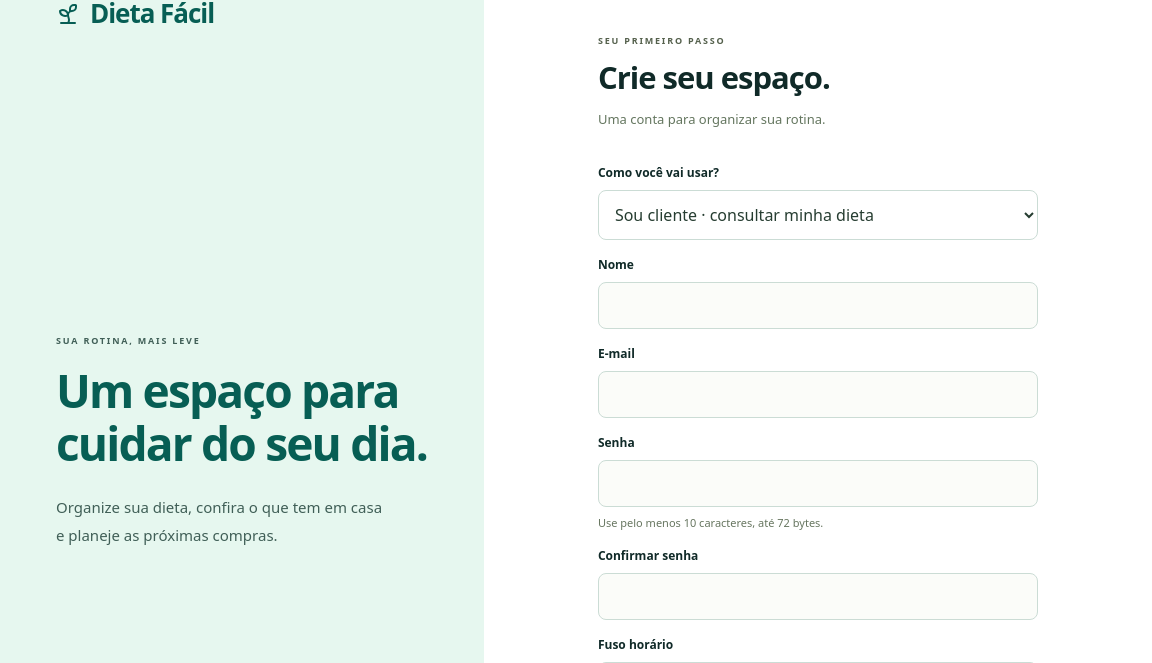
Test case: Acesso pessoal › bloqueia senhas diferentes antes do cadastro e encaminha ao login após criar conta
Type "Pessoa Teste" into the field labelled "Nome" at (818, 305), box [598,282,1038,329]
Type "test@example.invalid" into the field labelled "E-mail" at (818, 394), box [598,371,1038,418]
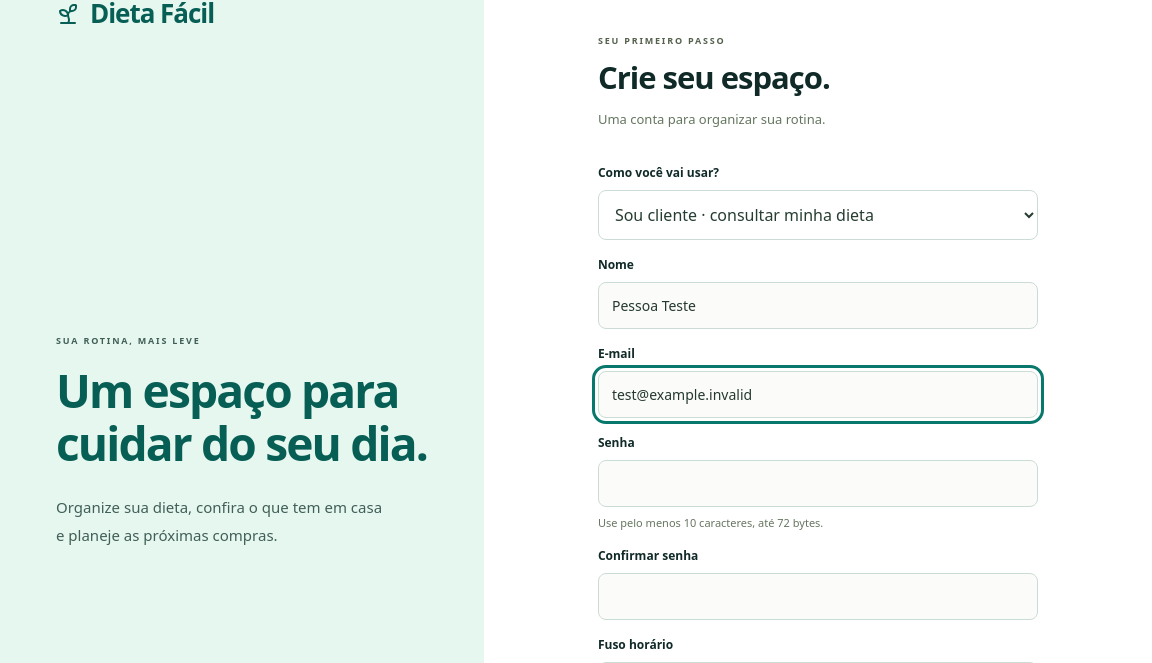
Type "senha-de-teste" into the password field labelled "Senha" at (818, 483), box [598,460,1038,507]
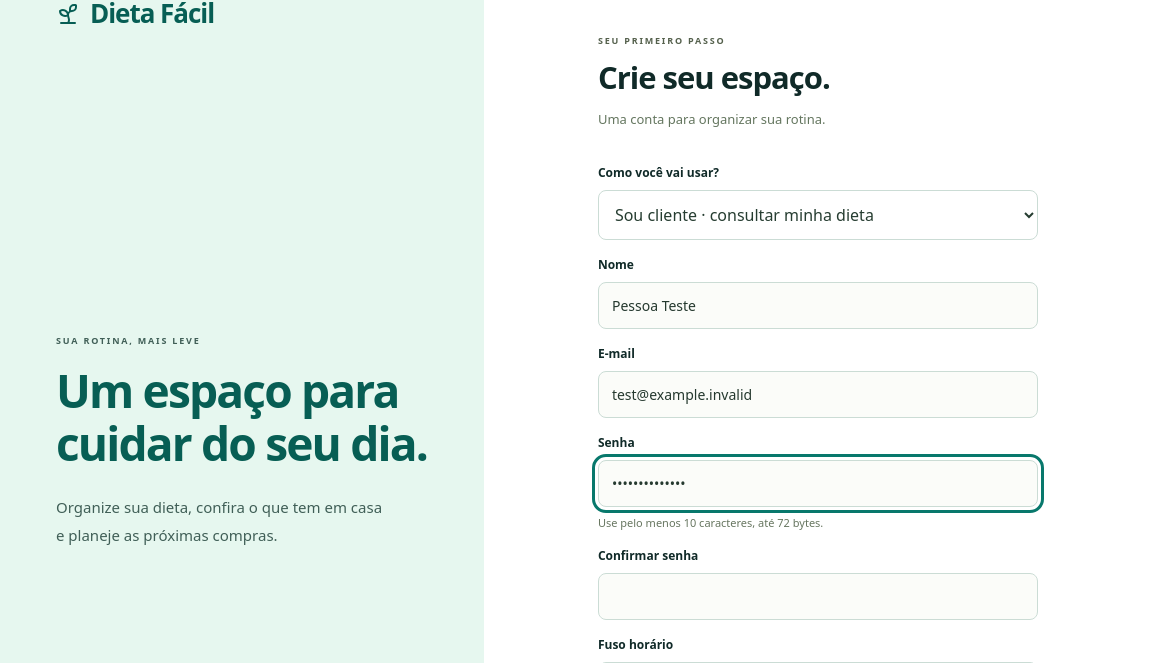
Type "outra-senha" into the password field labelled "Confirmar senha" at (818, 597), box [598,573,1038,620]
(page scrolled)
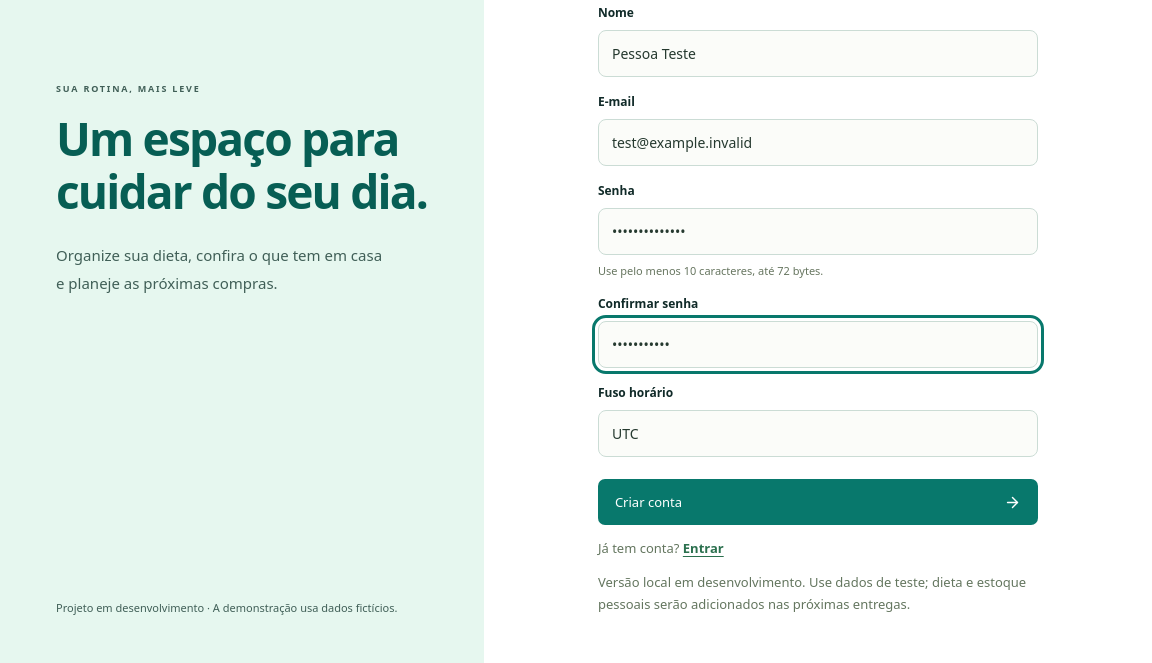
Click the button "Criar conta" at (648, 502), box [598,479,1038,525]
(page scrolled)
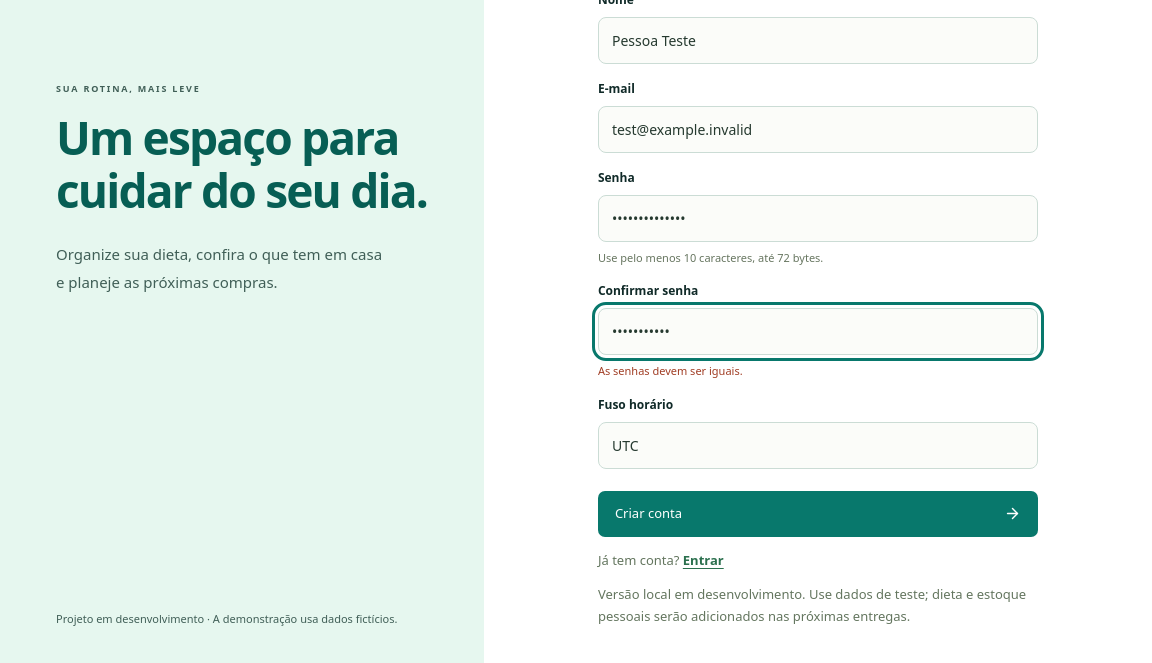
expect the text "As senhas devem ser iguais." is shown: met, box [598,363,743,378]
Type "senha-de-teste" into the password field labelled "Confirmar senha" at (818, 332), box [598,308,1038,355]
(page scrolled)
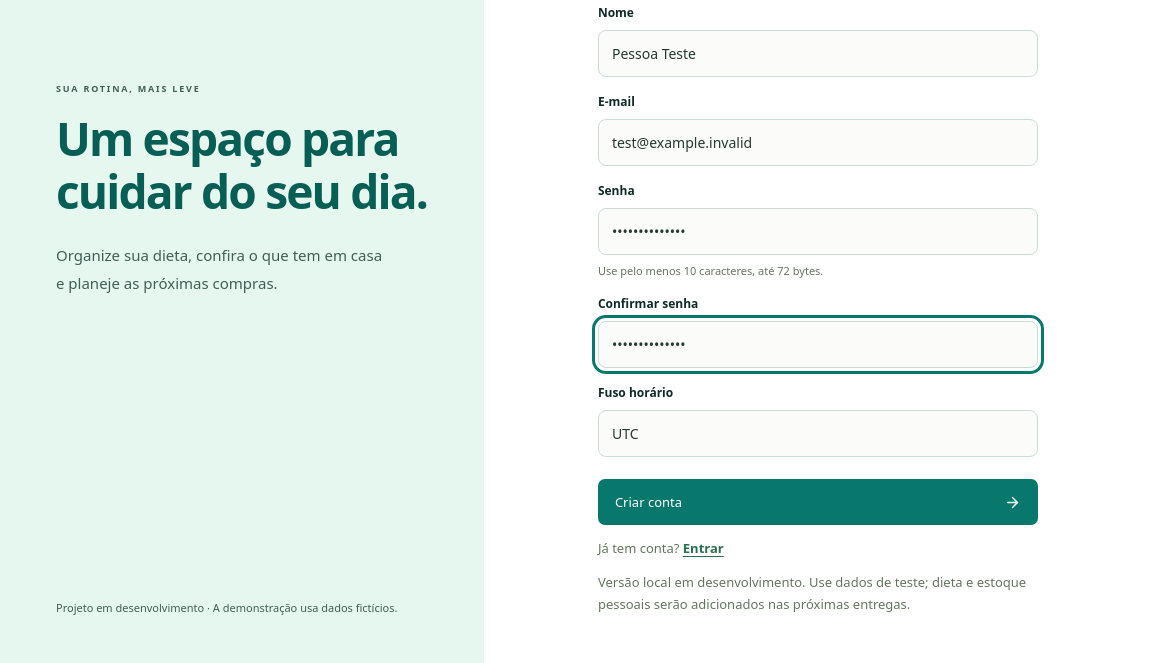
Click the button "Criar conta" at (648, 502), box [598,479,1038,525]
(page scrolled)
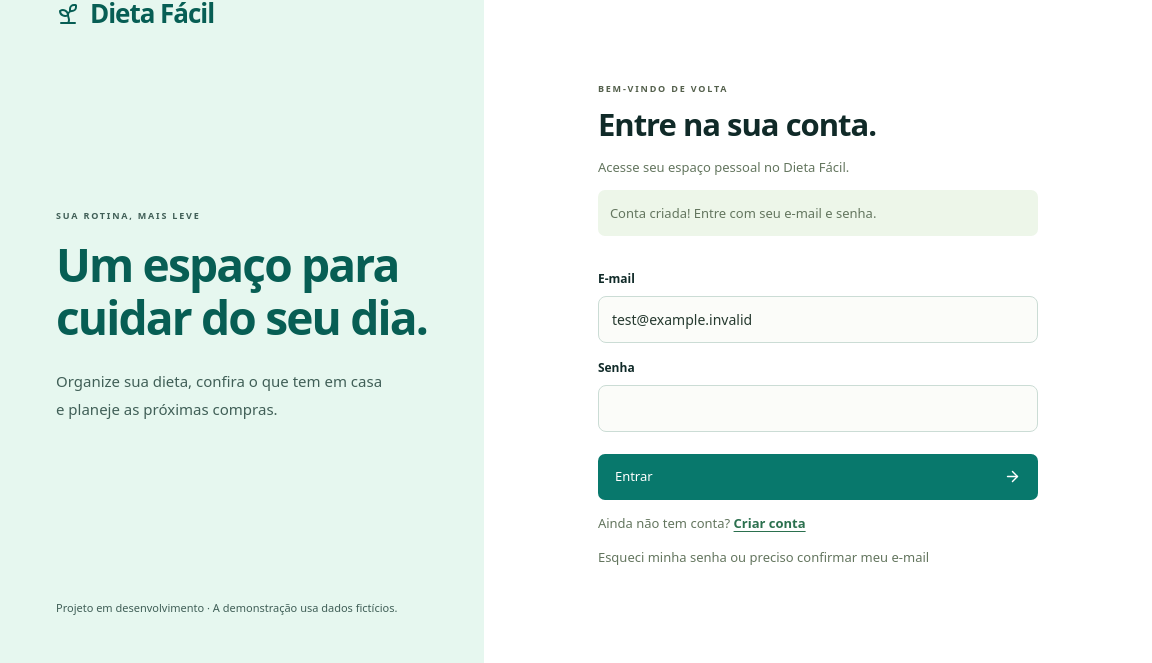
expect the text "Conta criada! Entre com seu e-mail e senha." is shown: met, box [598,190,1038,236]
expect the field labelled "E-mail" holds "test@example.invalid": met, box [598,296,1038,343]
